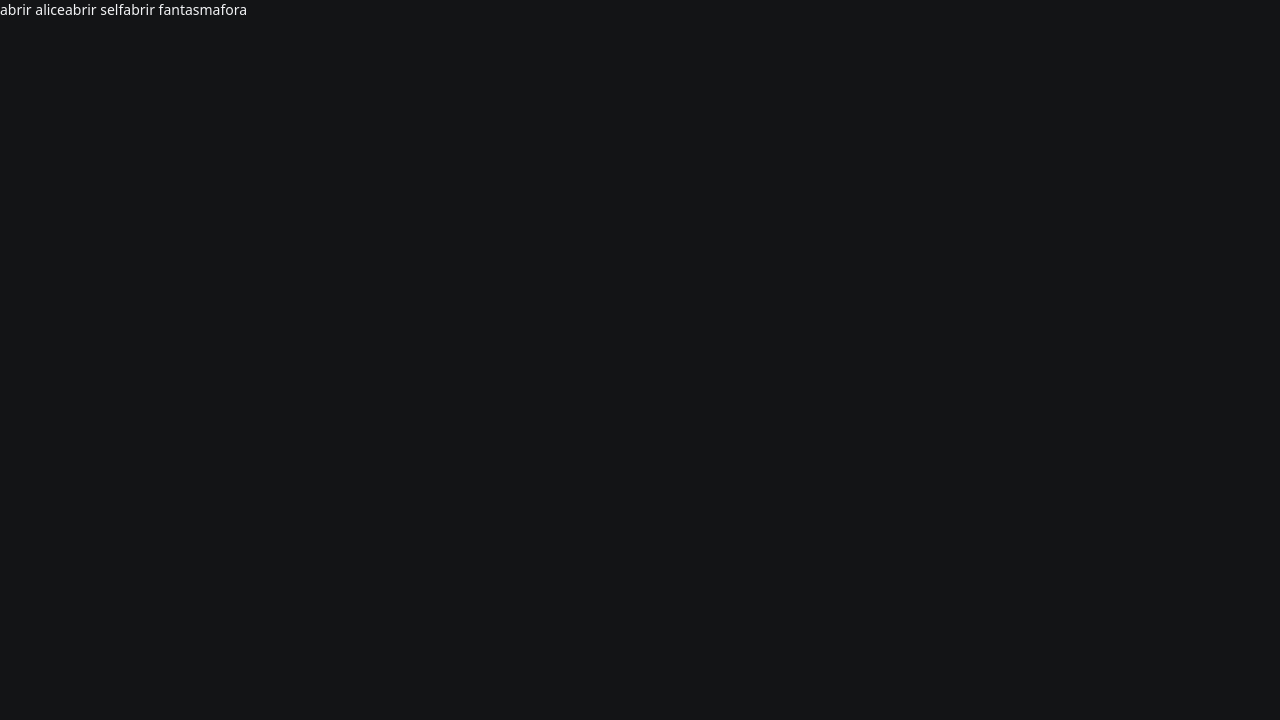
UserProfilePopover › fecha no Escape e devolve o foco para quem abriu
Click the button "abrir alice": (18, 10) [0, 0, 65, 19]
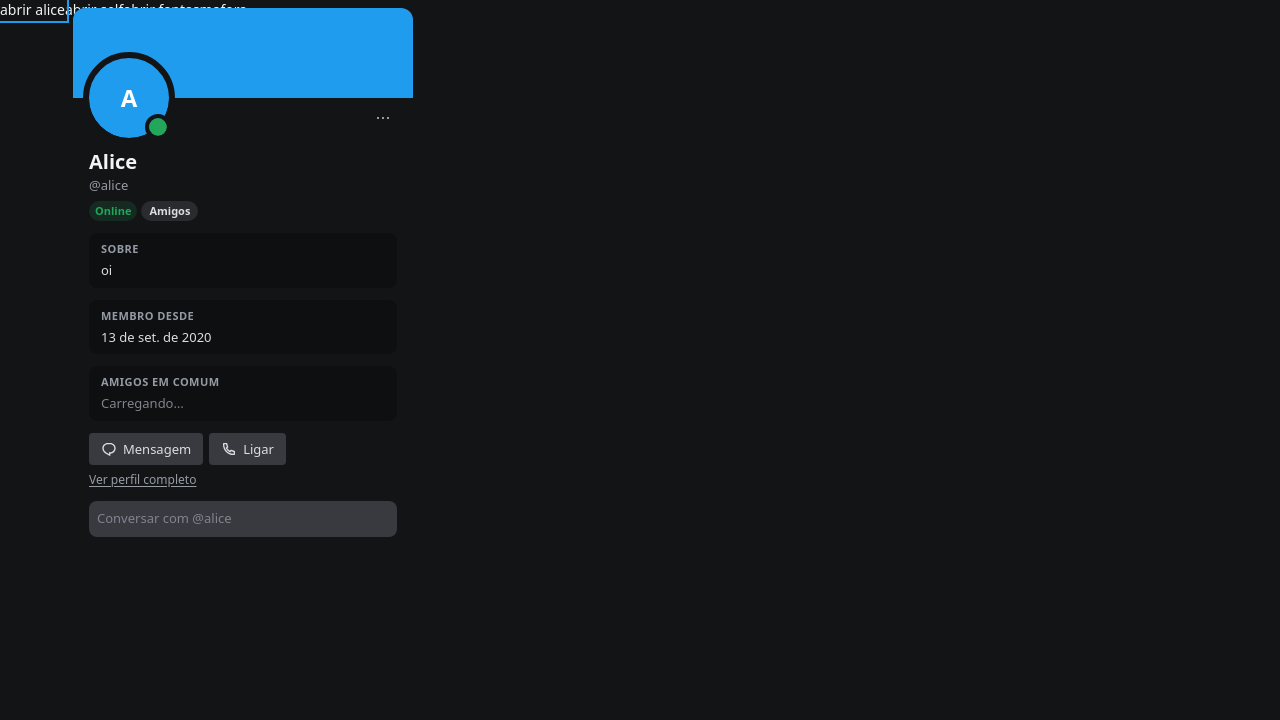
Check: the dialog named "Perfil" is shown, box [73, 8, 413, 552]
Press Escape
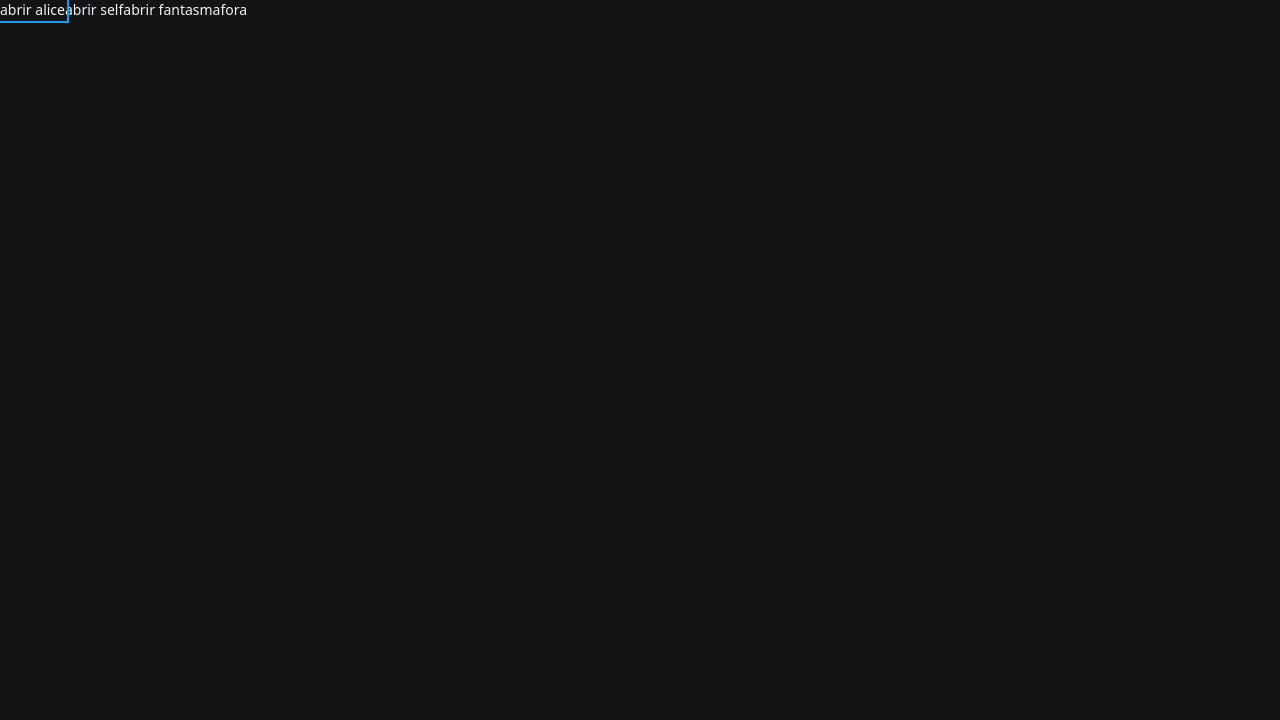
Check: the button "perfil" is gone
